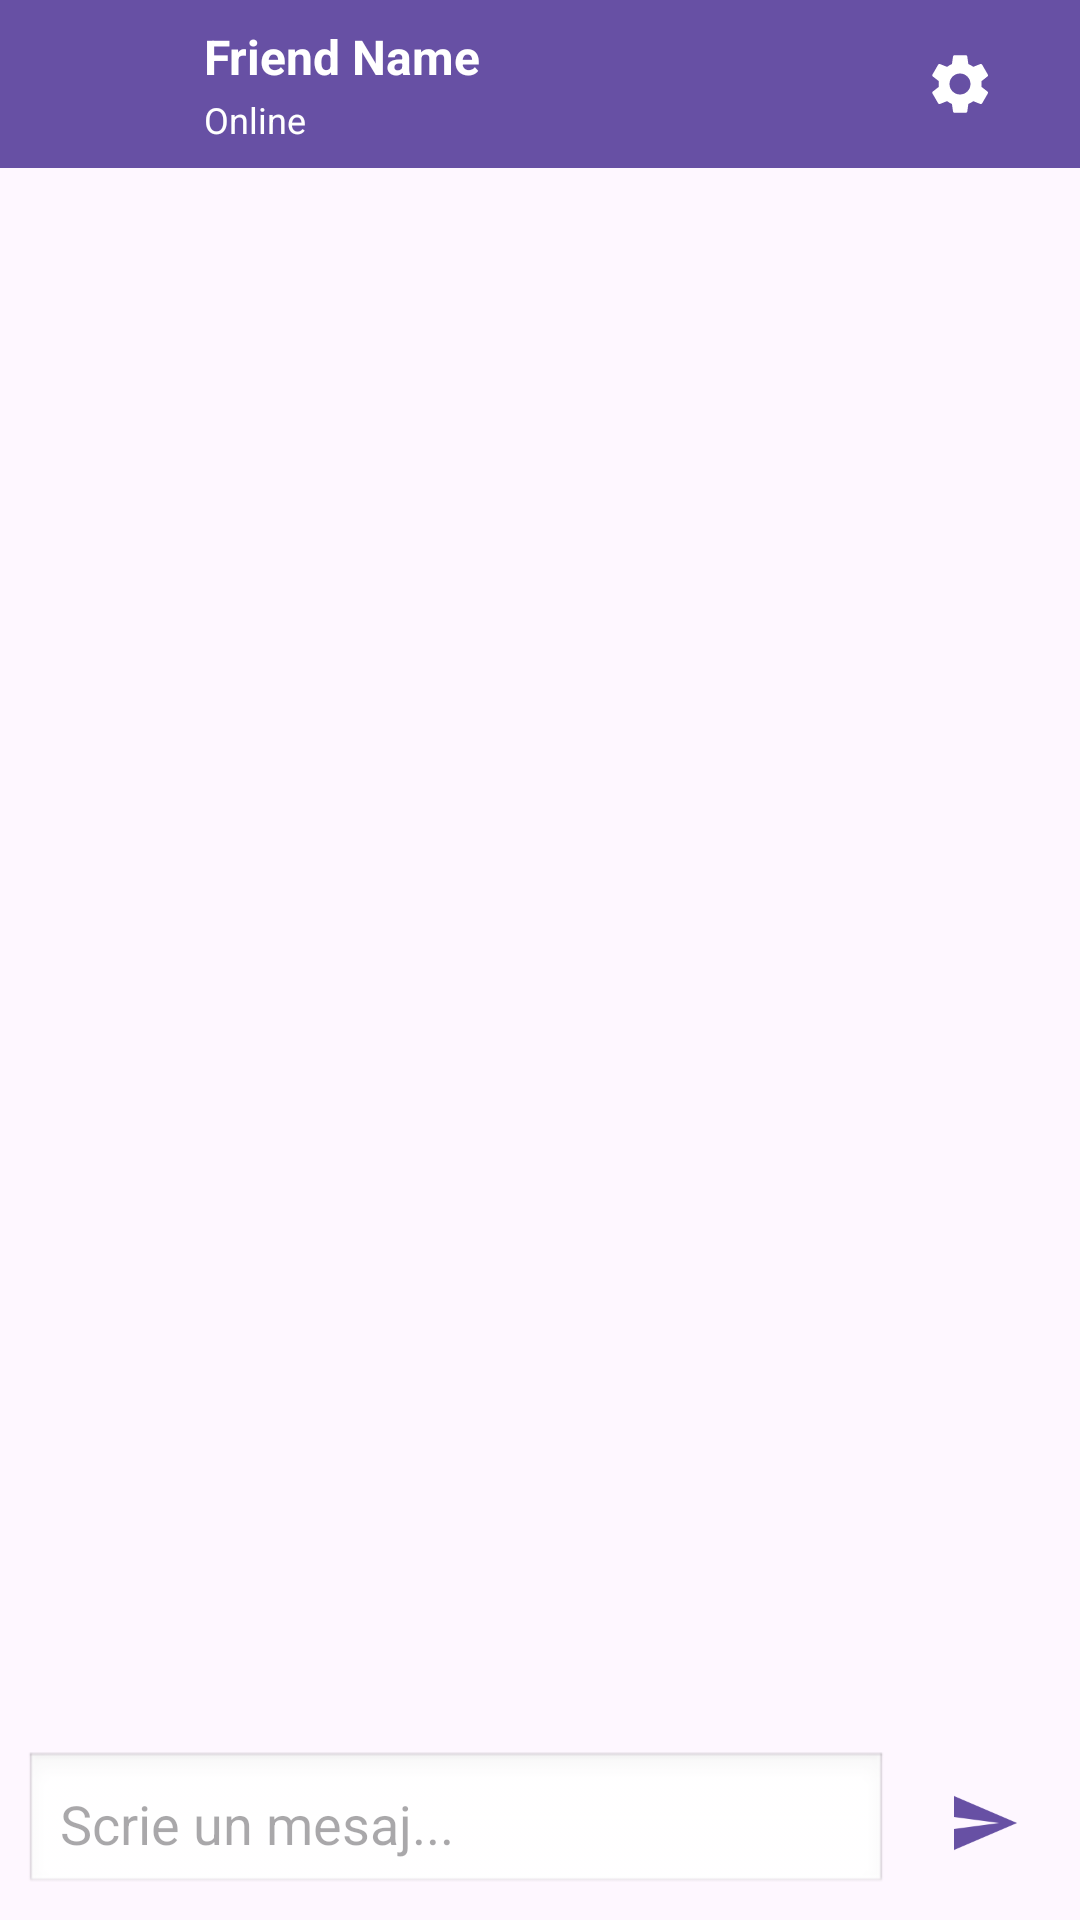

Where to tap for icons on this 1080*1920 app screen, as (x,y):
Setări prieten: (960,84)
Trimite mesaj: (985,1823)
